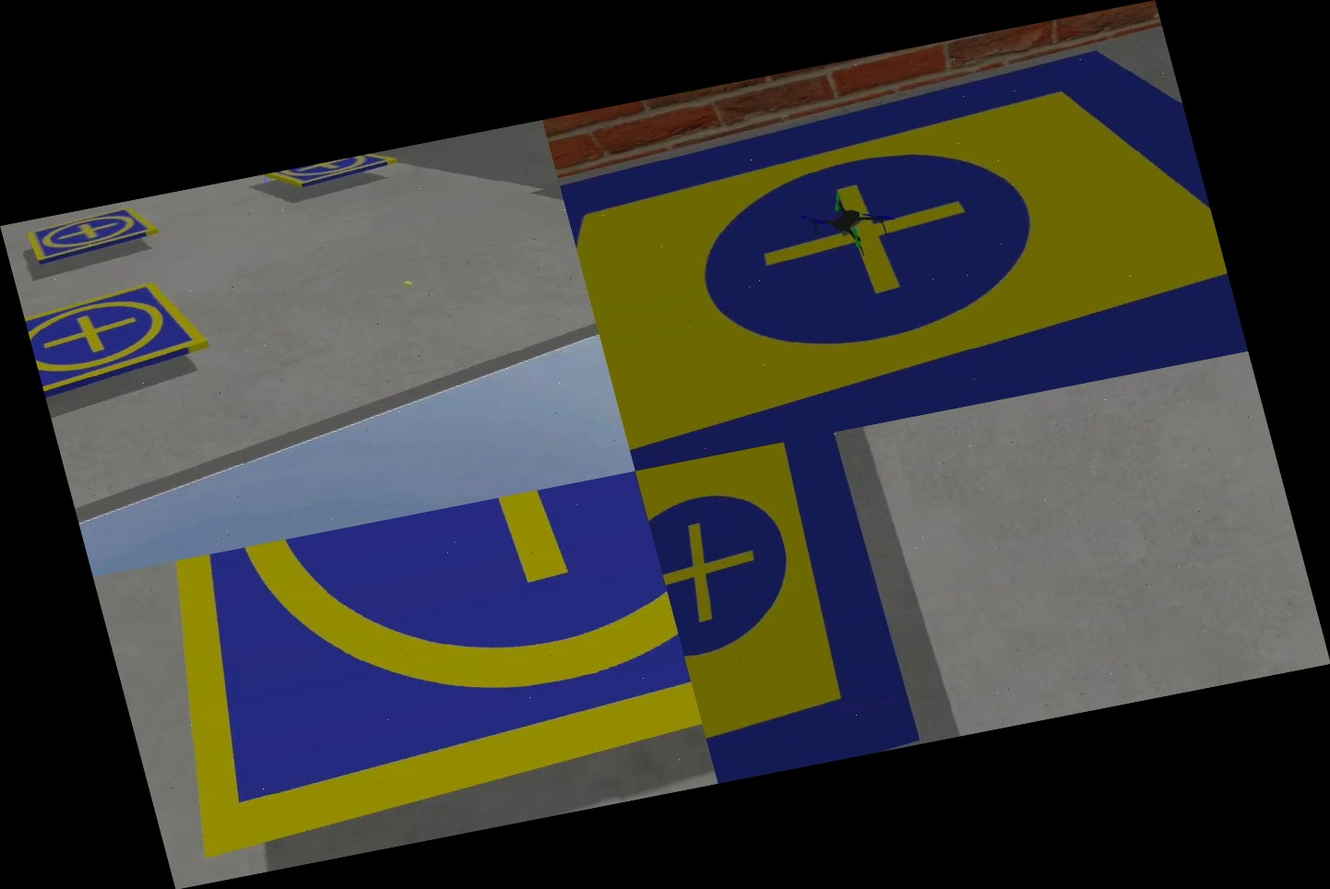large_base: (552, 36, 1247, 470), (635, 431, 924, 783)
small_base: (120, 470, 713, 863), (22, 276, 216, 406), (24, 202, 163, 264), (252, 148, 398, 198)
